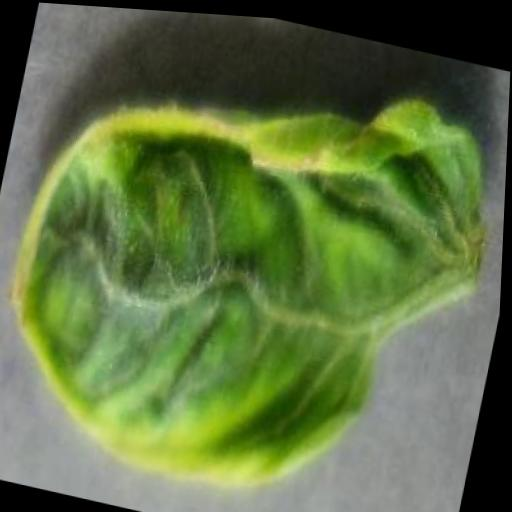Yellow Leaf Curl Virus: (0, 15, 505, 512)
